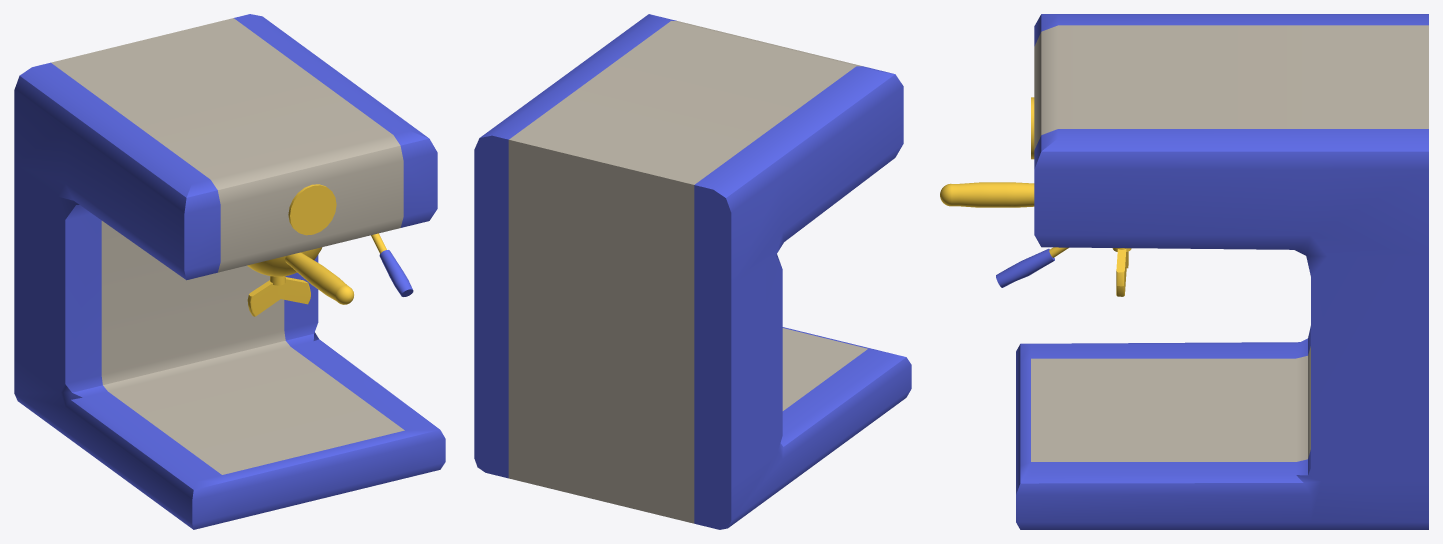
The model's file is kahve_makinesi.fbx.
The picture shows the model from 3 angles, left to right: view 1: azimuth 30°, elevation 25°; view 2: azimuth 150°, elevation 25°; view 3: azimuth 270°, elevation 25°; orthographic projection. The views are drawn at different scales.
Parts seen in each view (by area): view 1: kahve_makinesi; view 2: kahve_makinesi; view 3: kahve_makinesi.
Boxes of the visible parts, <box> form: kahve_makinesi: <box>14,14,445,529</box>; kahve_makinesi: <box>474,14,911,529</box>; kahve_makinesi: <box>940,14,1428,529</box>.
Bounding box in the file's own units: 0.8219 × 1.04 × 1.18.
